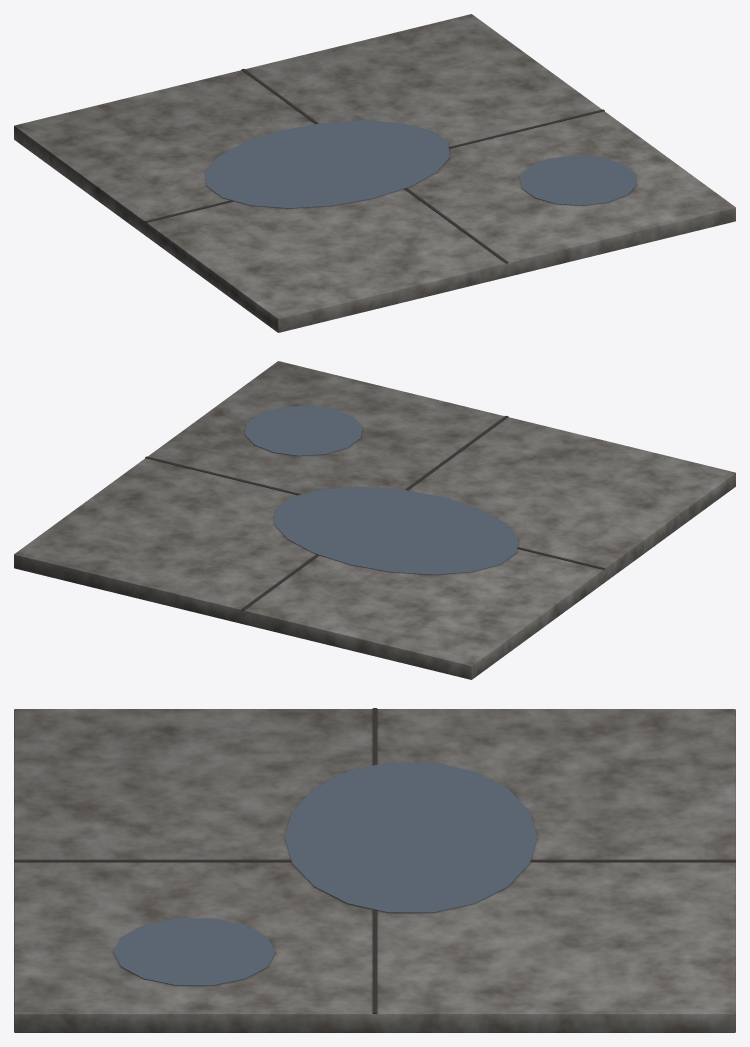
File: g67_pz_floor_wet.glb
3 views of the same model, one above another, from view 1: azimuth 30°, elevation 25°; view 2: azimuth 150°, elevation 25°; view 3: azimuth 270°, elevation 25° (orthographic). The views are drawn at different scales.
Parts seen in each view (by area): view 1: g67_pz_floor_wet; view 2: g67_pz_floor_wet; view 3: g67_pz_floor_wet.
Part boxes in pixels (left/top/right/bottom): g67_pz_floor_wet: left=14, top=14, right=735, bottom=332; g67_pz_floor_wet: left=14, top=361, right=735, bottom=679; g67_pz_floor_wet: left=14, top=708, right=735, bottom=1032.
Size of the model in its own units: 4 by 0.126 by 4.
1 material, 1 textured.
